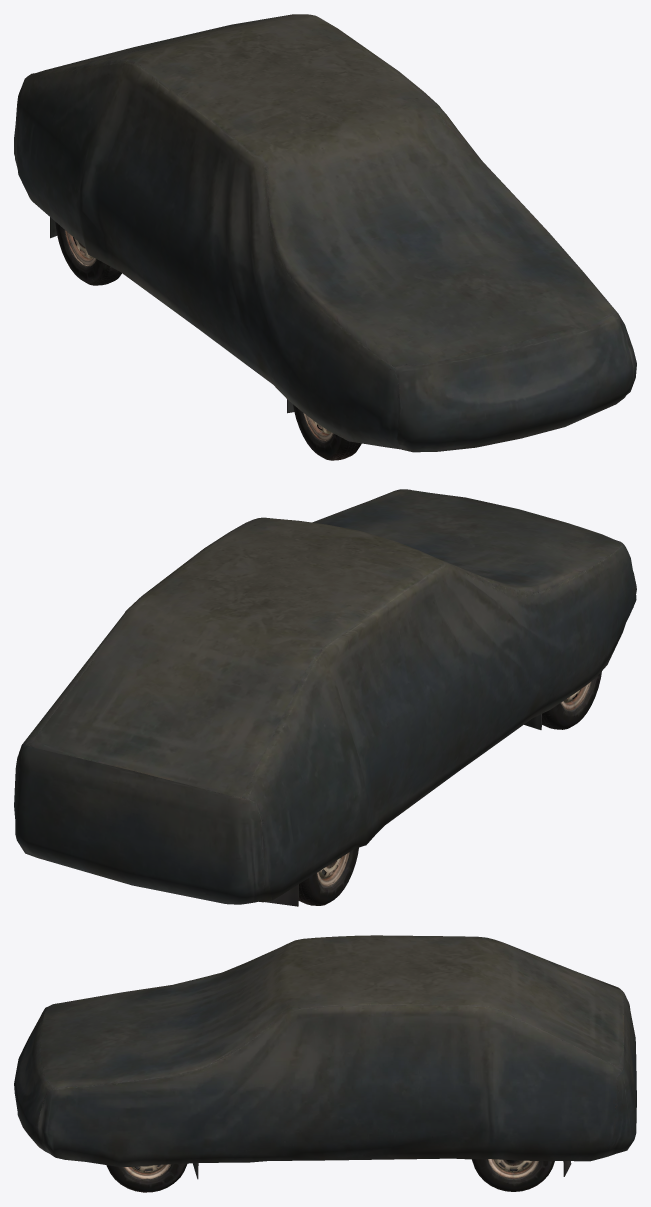
File: covered_car.glb
The picture shows the model from 3 angles, top to bottom: view 1: azimuth 30°, elevation 25°; view 2: azimuth 150°, elevation 25°; view 3: azimuth 270°, elevation 25°; orthographic projection. The views are drawn at different scales.
Parts seen in each view (by area): view 1: covered_car; view 2: covered_car; view 3: covered_car.
Boxes of the visible parts, x1,y1,x2,y2 form: covered_car: [14, 14, 636, 460]; covered_car: [14, 489, 636, 906]; covered_car: [14, 935, 636, 1192].
Size of the model in its own units: 1.79 by 1.41 by 4.38.
2 materials, 2 textured.
